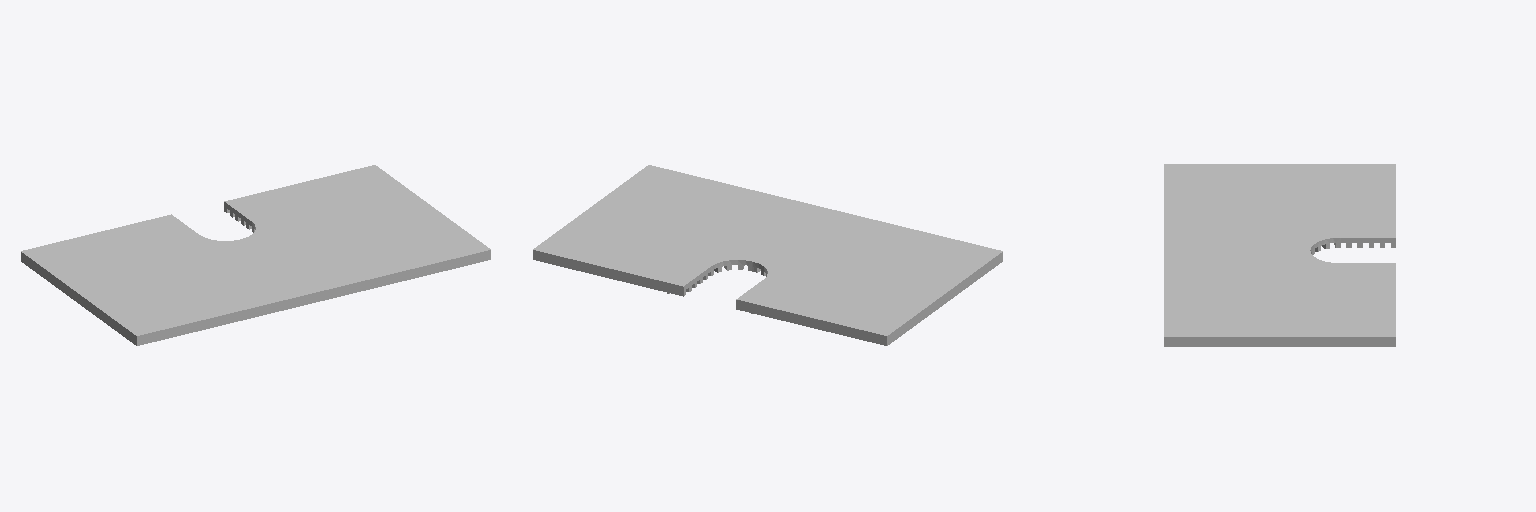
Rendered from WallFond.obj.
3 views of the same model, side by side, from view 1: azimuth 30°, elevation 25°; view 2: azimuth 150°, elevation 25°; view 3: azimuth 270°, elevation 25° (orthographic).
Visible parts, largest first — view 1: Corps1; view 2: Corps1; view 3: Corps1.
Part boxes in pixels (x1,y1,x2,y2): Corps1: (21,165,490,345); Corps1: (533,165,1002,345); Corps1: (1164,164,1395,346).
Size of the model in its own units: 74 by 2.2 by 42.